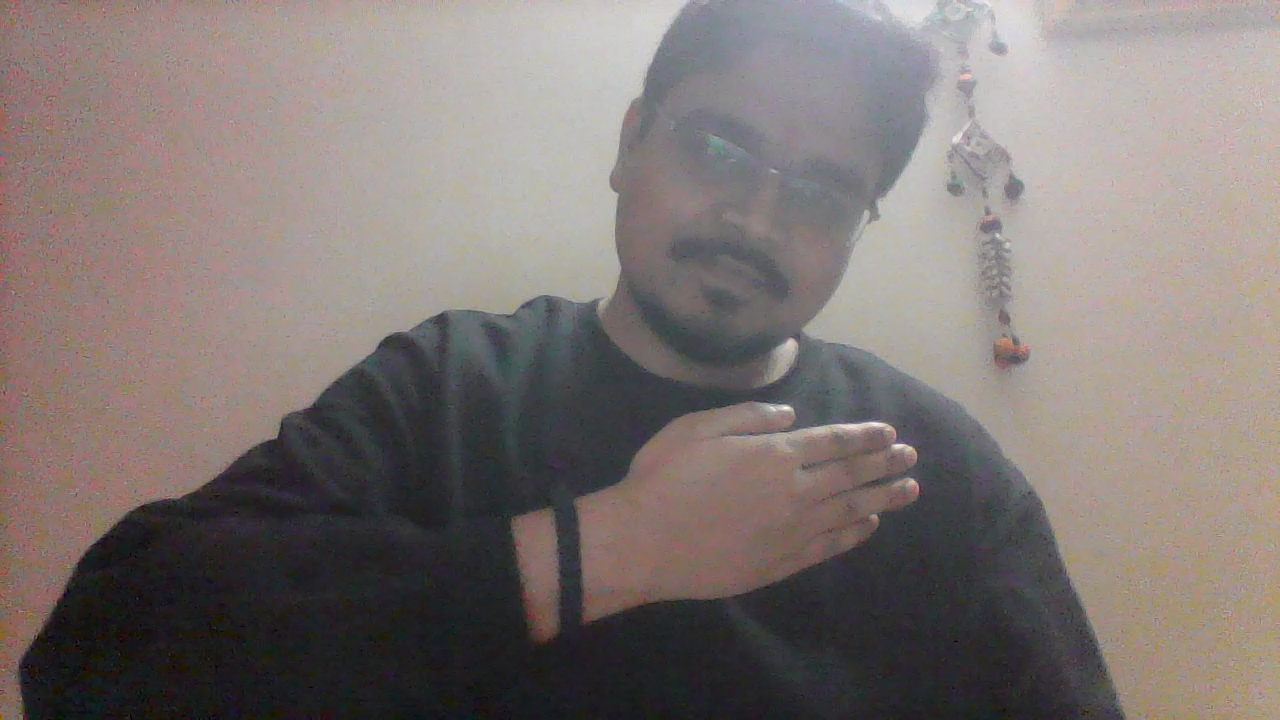Please: (588, 398, 922, 611)
